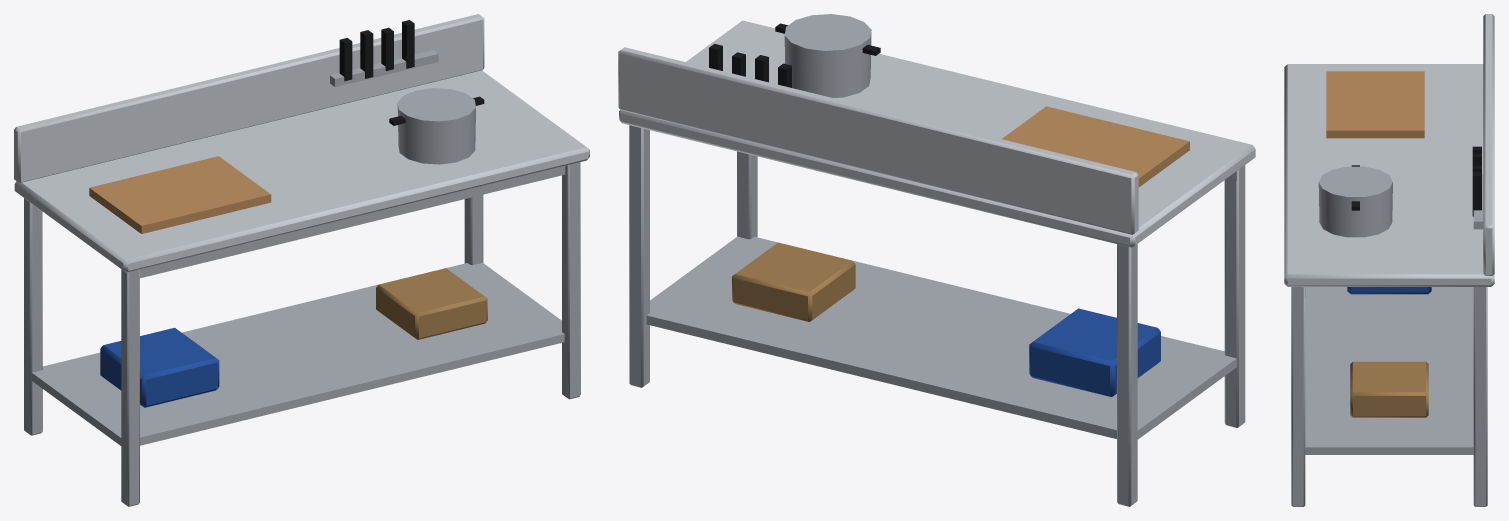
The model's file is galley_prep_counter.glb.
3 views of the same model, side by side, from view 1: azimuth 30°, elevation 25°; view 2: azimuth 150°, elevation 25°; view 3: azimuth 270°, elevation 25° (orthographic). The views are drawn at different scales.
Parts seen in each view (by area): view 1: galley_prep_counter; view 2: galley_prep_counter; view 3: galley_prep_counter.
Part boxes in pixels (bbox=[...]): galley_prep_counter: bbox=[14, 14, 589, 506]; galley_prep_counter: bbox=[618, 14, 1255, 506]; galley_prep_counter: bbox=[1284, 14, 1494, 506].
Bounding box in the file's own units: 1.8 × 1.18 × 0.75.
